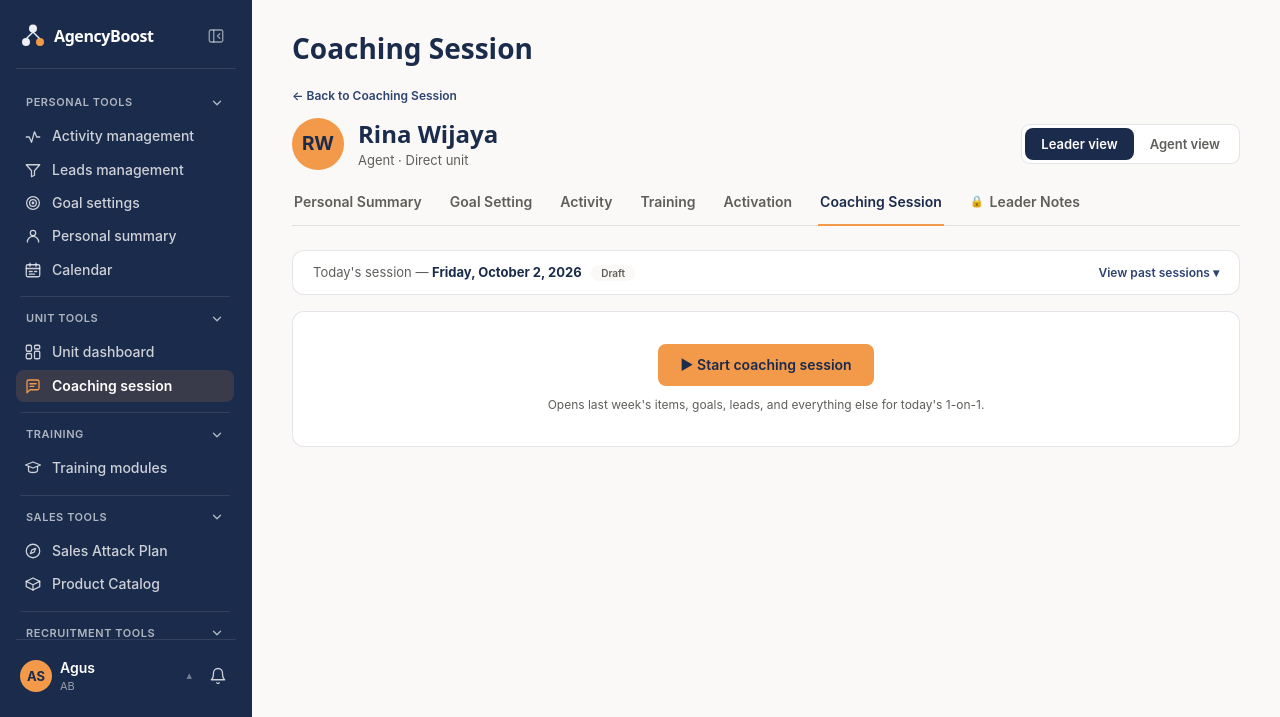
Scenario: the session workspace (P11-T8) › the header and the start › P11-T8 AC-2 starts: one POST, the prototype’s toast, and last week’s unfinished items and tips carried in
This screenshot has width=1280, height=717.
Click the button "▶ Start coaching session": (766, 365) [658,344,874,386]
(page scrolled)
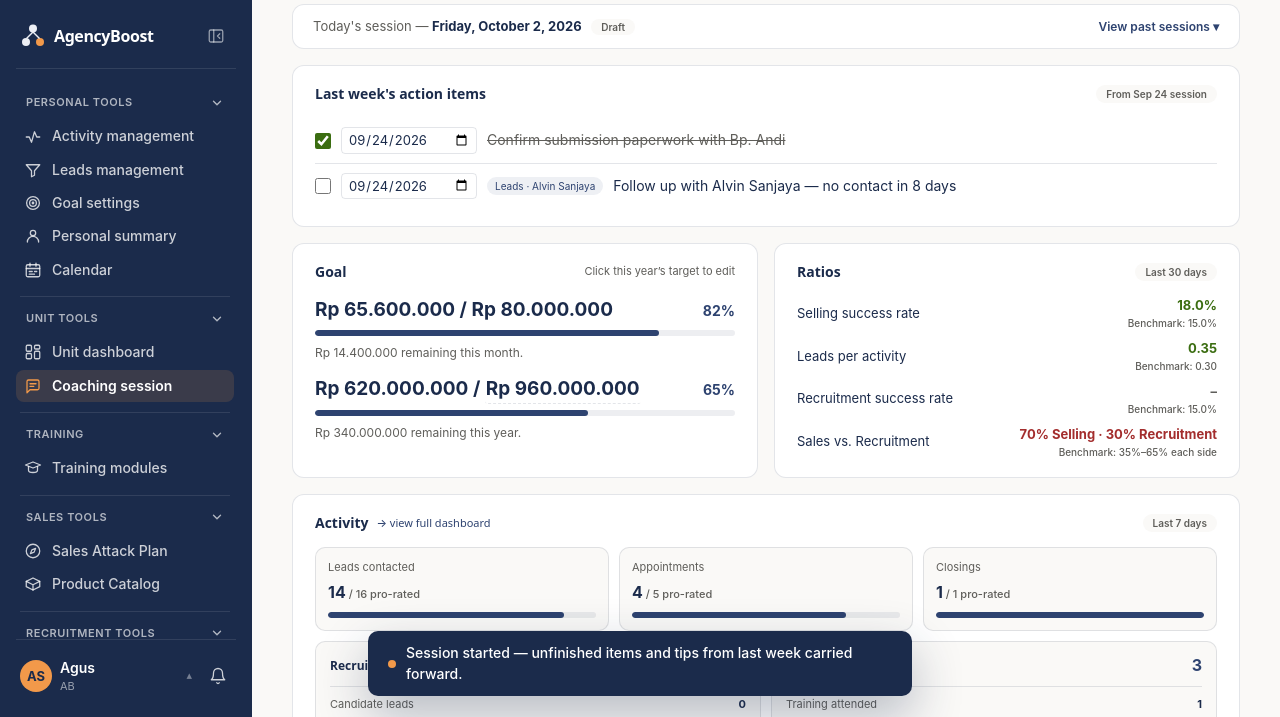
Result: the button "Start coaching session" is gone
Result: the element "Goal" is shown at [292,243,758,478]
